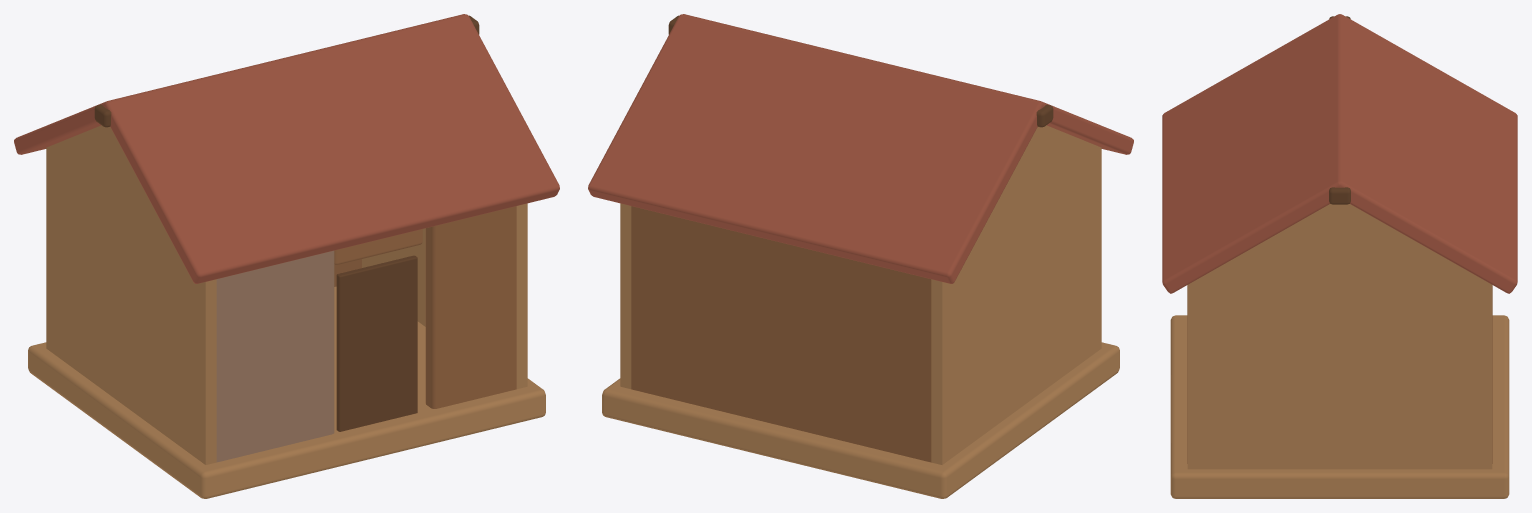
File: shack.glb
3 renders of one model, left to right at view 1: azimuth 30°, elevation 25°; view 2: azimuth 150°, elevation 25°; view 3: azimuth 270°, elevation 25°, orthographic. The views are drawn at different scales.
Parts seen in each view (by area): view 1: shack; view 2: shack; view 3: shack.
Boxes of the visible parts, <box> form: shack: <box>14,14,559,498</box>; shack: <box>588,14,1133,498</box>; shack: <box>1162,14,1517,498</box>.
Bounding box in the file's own units: 4.86 × 4.16 × 4.15.
